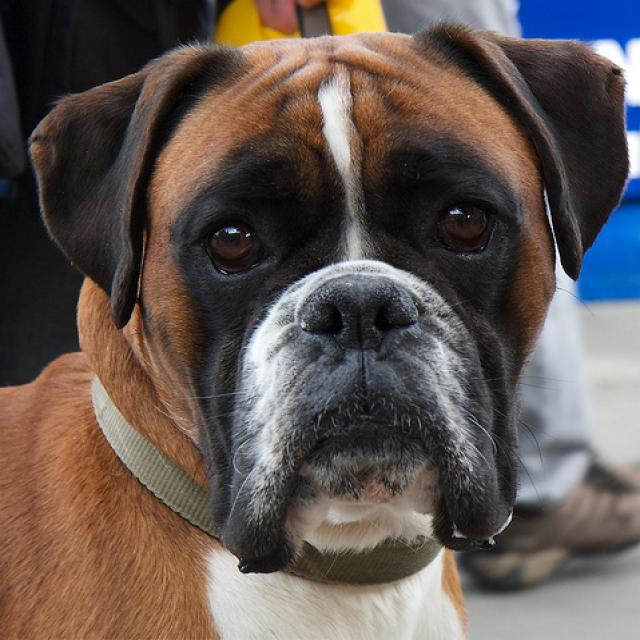dog-boxer: (1, 13, 637, 637)
